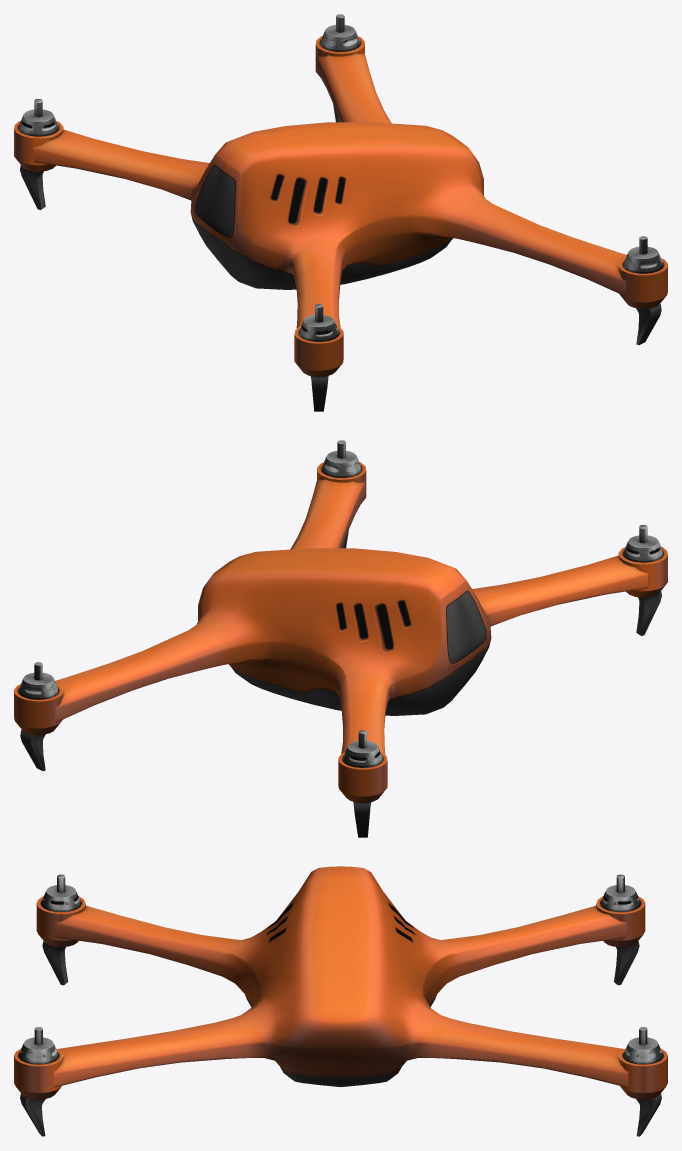
Rendered from quadrotor.dae.
3 renders of one model, top to bottom at view 1: azimuth 30°, elevation 25°; view 2: azimuth 150°, elevation 25°; view 3: azimuth 270°, elevation 25°, orthographic.
Parts seen in each view (by area): view 1: X3; view 2: X3; view 3: X3.
Part boxes in pixels (bbox=[...]): X3: bbox=[14, 14, 667, 411]; X3: bbox=[14, 440, 667, 837]; X3: bbox=[14, 866, 667, 1136].
Size of the model in its own units: 0.2995 by 0.4778 by 0.1188.
Materials: 1 (1 with a texture image).
